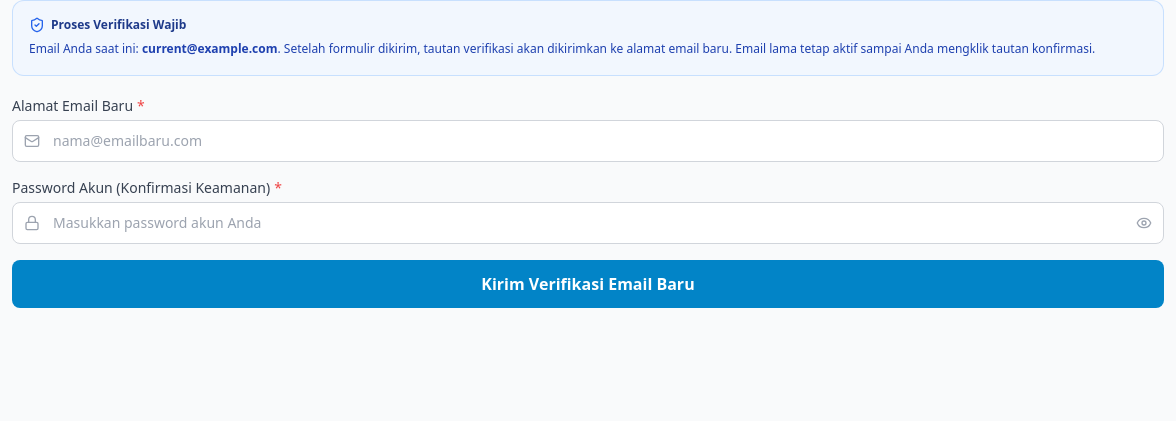
Test: ChangeEmailForm Component › submits valid new email and password
Type "new@example.com" into the field with placeholder "nama@emailbaru.com" at (588, 140), box [12,120,1164,162]
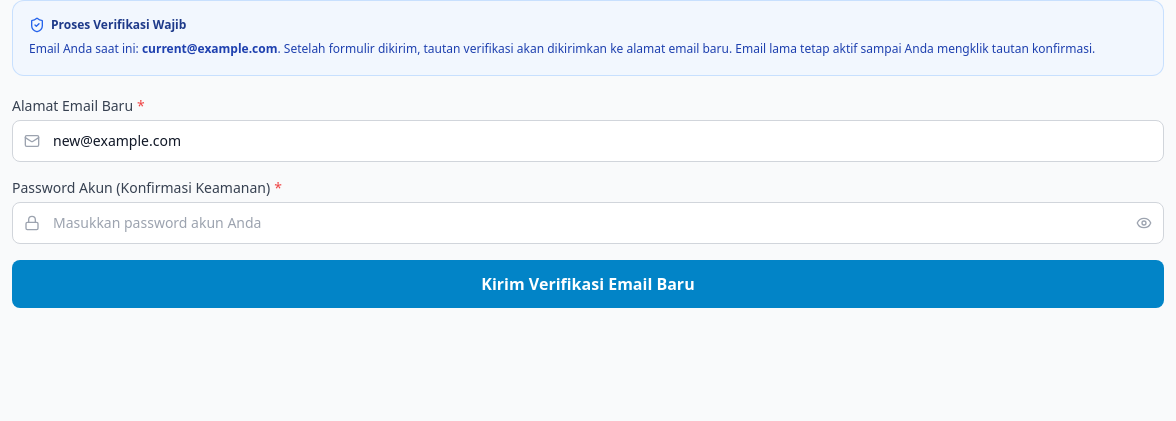
Type "password123" into the password field with placeholder "Masukkan password akun Anda" at (588, 222), box [12,202,1164,244]
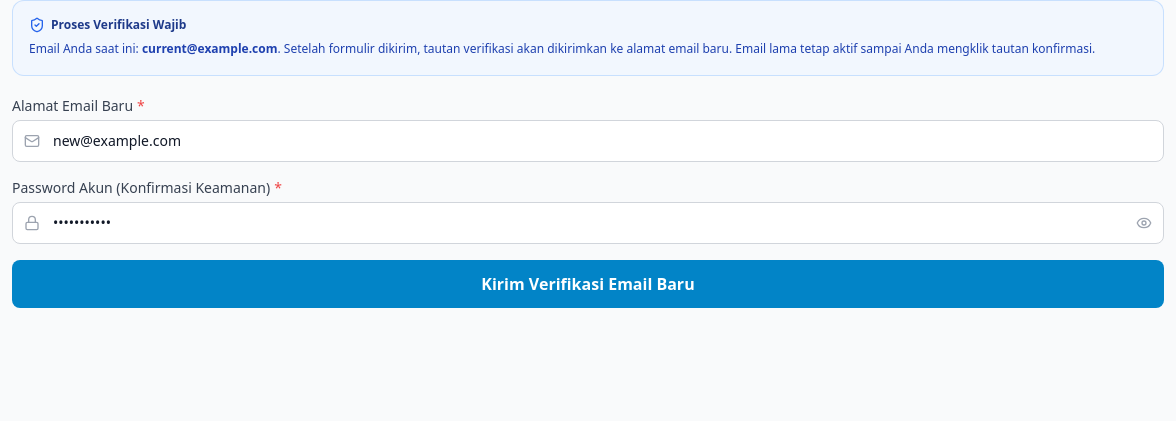
Click the button "Kirim Verifikasi Email Baru" at (588, 284), box [12,260,1164,308]
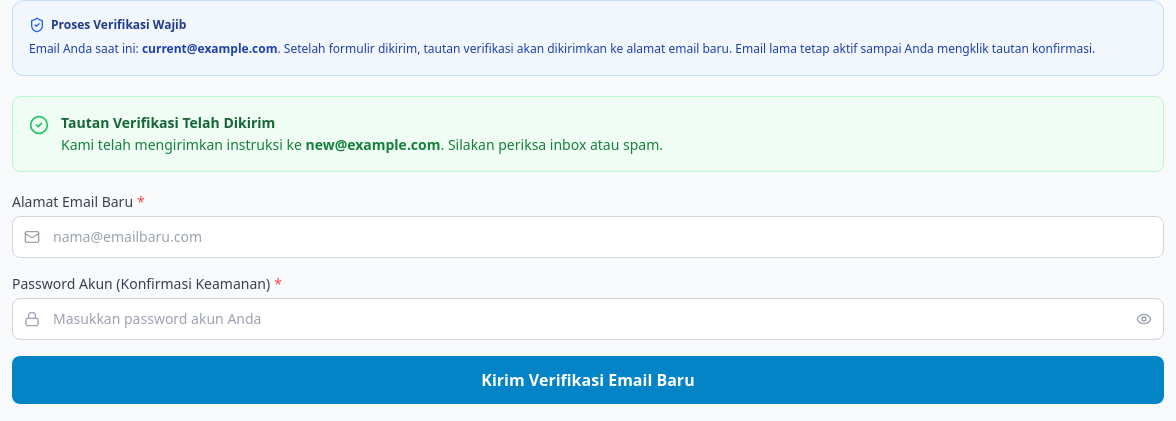
Expected: the heading "Tautan Verifikasi Telah Dikirim" is shown, [61,112,275,132]
Expected: the text "new@example.com" is shown, [306,134,440,154]
